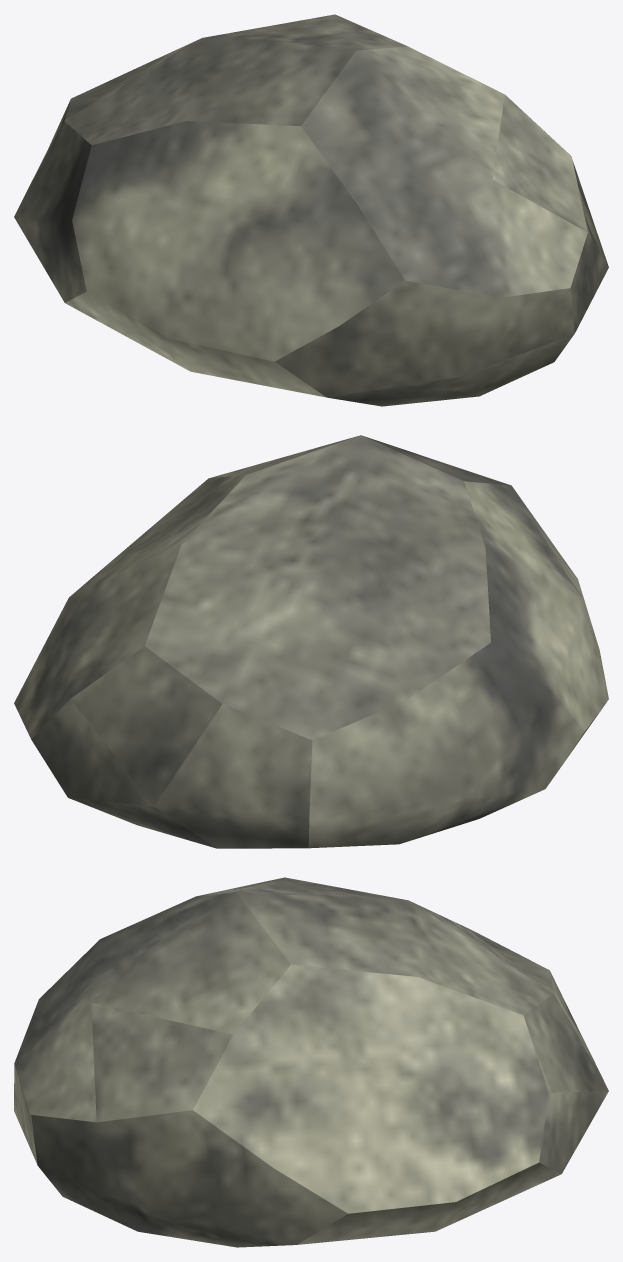
File: Pedra2.fbx
3 views of the same model, one above another, from view 1: azimuth 30°, elevation 25°; view 2: azimuth 150°, elevation 25°; view 3: azimuth 270°, elevation 25° (orthographic). The views are drawn at different scales.
Visible parts, largest first — view 1: pPlatonic4; view 2: pPlatonic4; view 3: pPlatonic4.
Boxes of the visible parts, <box> form: pPlatonic4: <box>14,14,608,406</box>; pPlatonic4: <box>14,435,608,848</box>; pPlatonic4: <box>14,877,608,1247</box>.
Bounding box in the file's own units: 2.09 × 1.23 × 2.35.
1 material, 1 textured.
